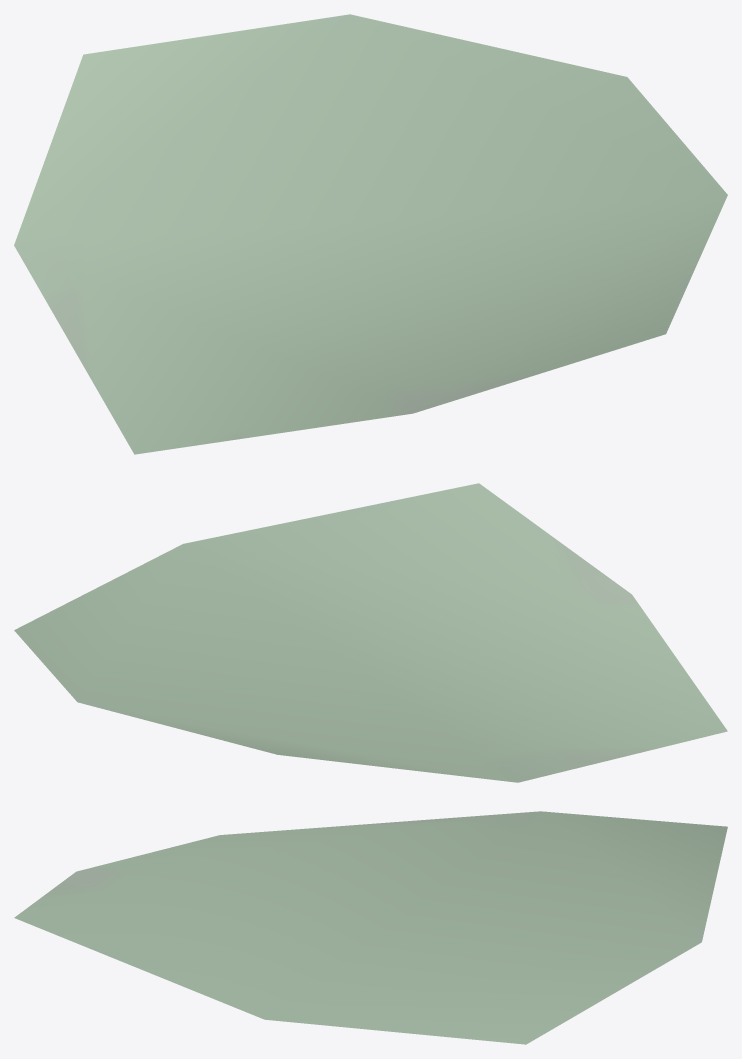
File: TROLLHOLE02_HOLECAP163.fbx
3 renders of one model, top to bottom at view 1: azimuth 30°, elevation 25°; view 2: azimuth 150°, elevation 25°; view 3: azimuth 270°, elevation 25°, orthographic. The views are drawn at different scales.
Parts seen in each view (by area): view 1: TROLLHOLE02_HOLECAP163; view 2: TROLLHOLE02_HOLECAP163; view 3: TROLLHOLE02_HOLECAP163.
Boxes of the visible parts, x1,y1,x2,y2 form: TROLLHOLE02_HOLECAP163: [14, 14, 727, 454]; TROLLHOLE02_HOLECAP163: [14, 483, 727, 782]; TROLLHOLE02_HOLECAP163: [14, 811, 727, 1044].
Bounding box in the file's own units: 23335 × 4244 × 24808.
1 material, 1 textured.
